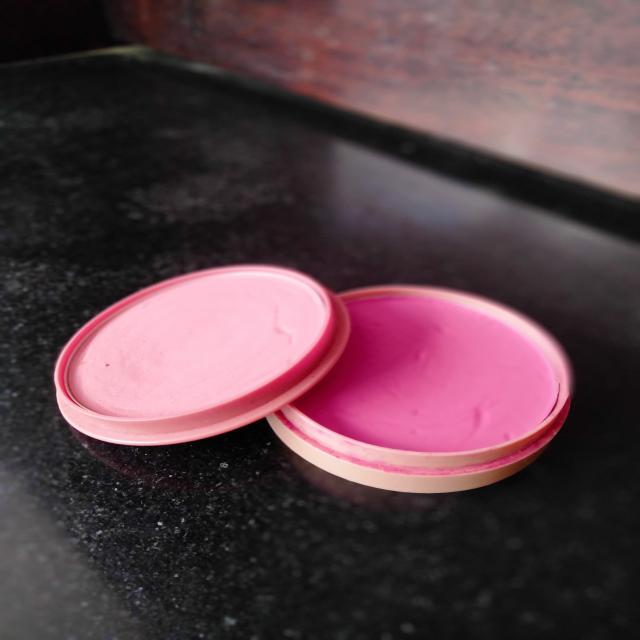eye shade: (64, 245, 561, 506)
